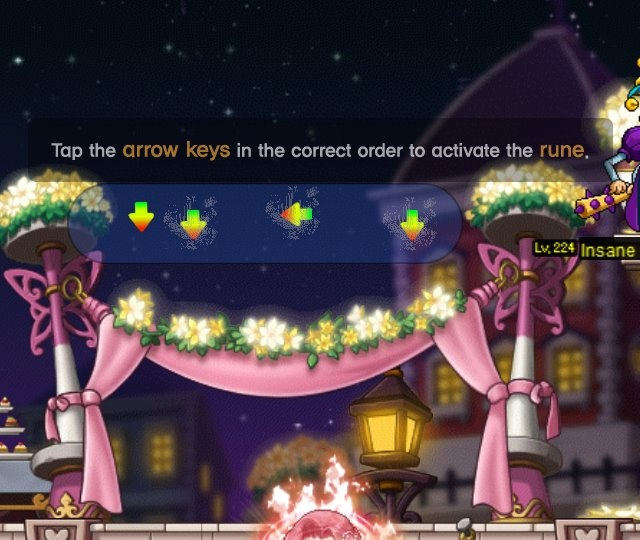rune_box: (57, 172, 475, 274)
